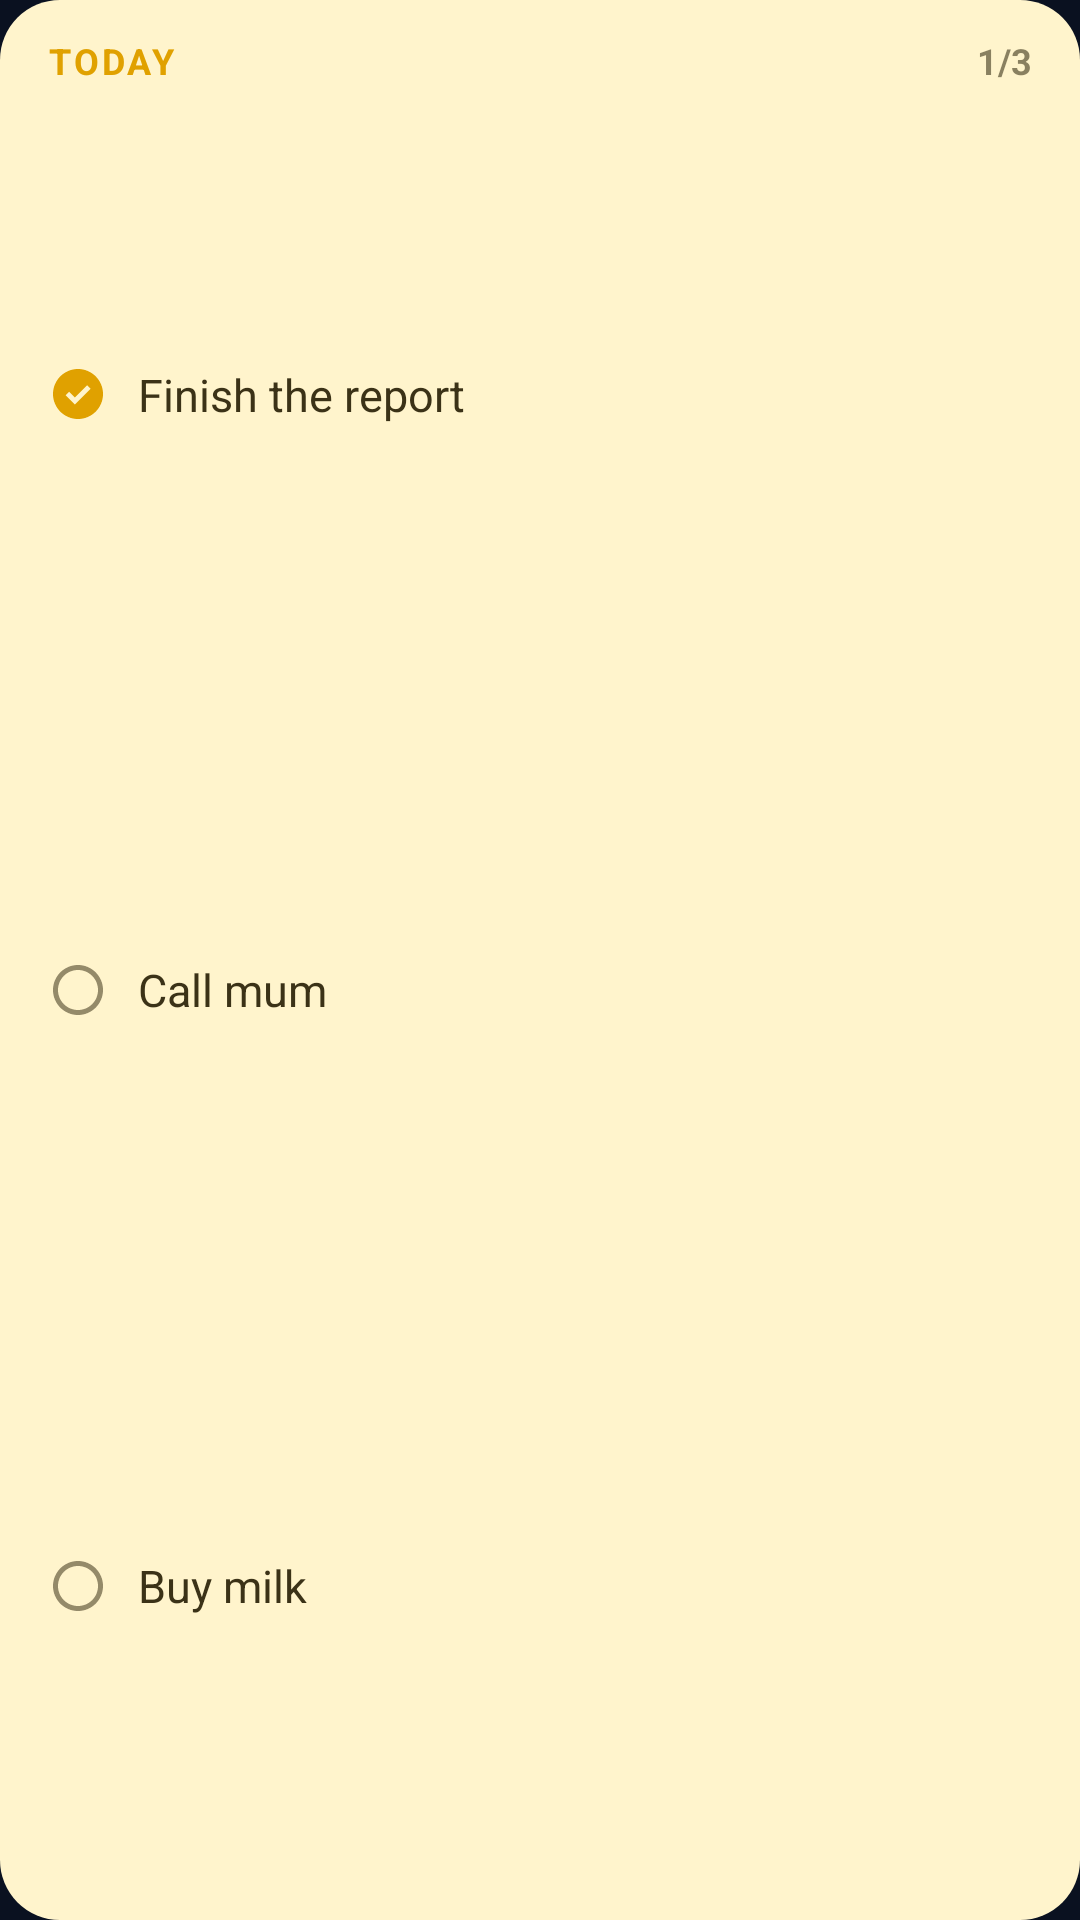

Screen size 1080px x 1920px. Icon name, then its box in pixels as (x1, y1, x2, y2):
check off: (53, 965, 103, 1015), (53, 1561, 103, 1611)
check on: (53, 369, 103, 419)
